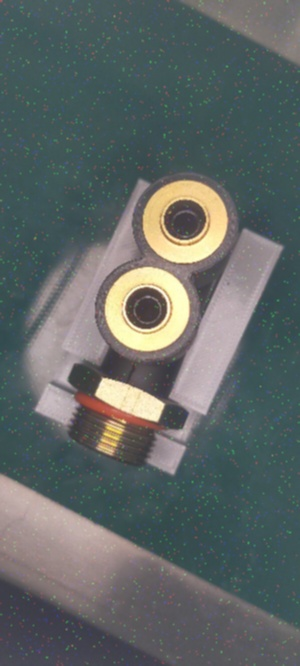craze: (125, 366, 139, 384)
